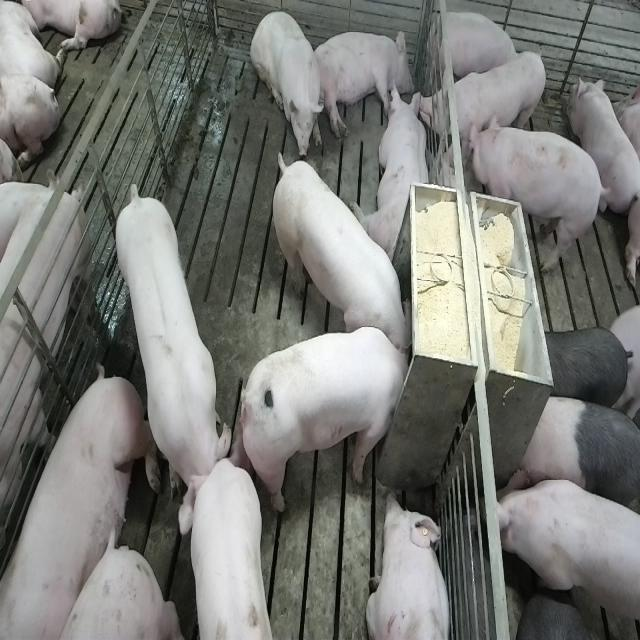Feeding: (244, 325, 420, 514), (268, 144, 410, 354)
Lateral_lying: (312, 27, 416, 139)
Sitting: (250, 7, 324, 160)
Standing: (0, 169, 96, 640), (114, 186, 228, 516), (494, 475, 638, 640), (468, 114, 610, 266), (172, 457, 272, 640), (515, 391, 638, 521), (532, 324, 632, 413)
Sternal_lying: (358, 84, 432, 266), (366, 490, 453, 640), (571, 74, 638, 221)
